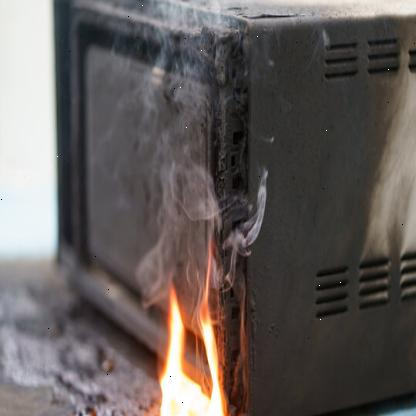fire: (145, 273, 235, 416)
smoke: (94, 3, 321, 368)
